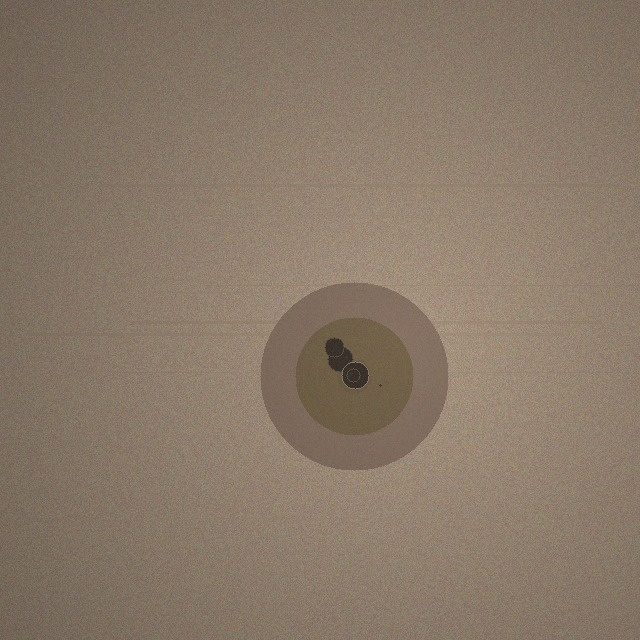shrinkage: (260, 282, 448, 470)
